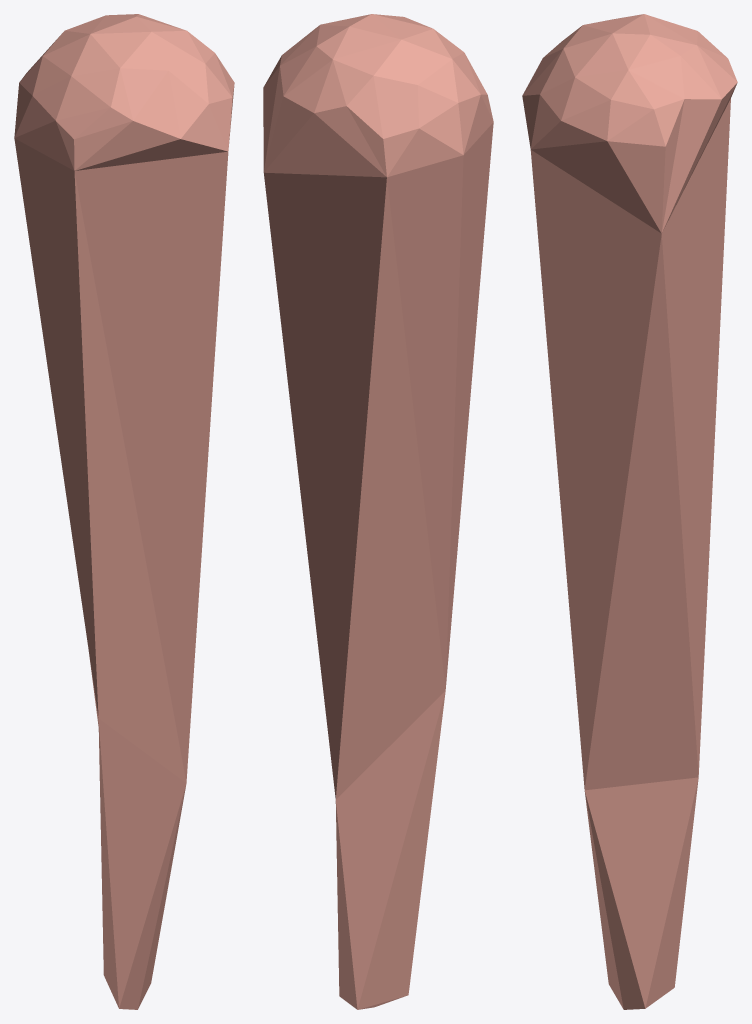
Rendered from animal_ostrich_blob_leg.obj.
3 views of the same model, side by side, from view 1: azimuth 30°, elevation 25°; view 2: azimuth 150°, elevation 25°; view 3: azimuth 270°, elevation 25° (orthographic).
Parts seen in each view (by area): view 1: animal_ostrich_blob_leg; view 2: animal_ostrich_blob_leg; view 3: animal_ostrich_blob_leg.
Part boxes in pixels (left/top/right/bottom): animal_ostrich_blob_leg: left=14, top=14, right=234, bottom=1009; animal_ostrich_blob_leg: left=263, top=14, right=493, bottom=1009; animal_ostrich_blob_leg: left=522, top=14, right=737, bottom=1009.
Size of the model in its own units: 0.1434 by 0.6822 by 0.1358.
